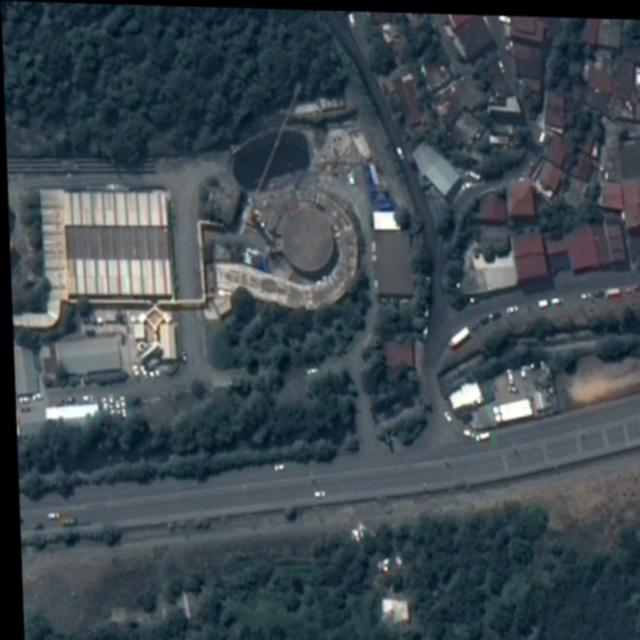Batiment: (445, 12, 495, 58), (563, 221, 597, 268), (504, 175, 535, 217), (512, 37, 542, 75), (380, 335, 412, 366), (620, 174, 640, 223), (602, 214, 623, 256), (510, 226, 542, 253), (513, 250, 546, 276), (477, 188, 503, 221), (567, 147, 594, 178), (543, 85, 562, 129), (535, 155, 561, 186), (510, 13, 544, 36), (543, 130, 565, 162), (597, 176, 620, 206), (582, 15, 600, 41), (518, 75, 541, 89)
